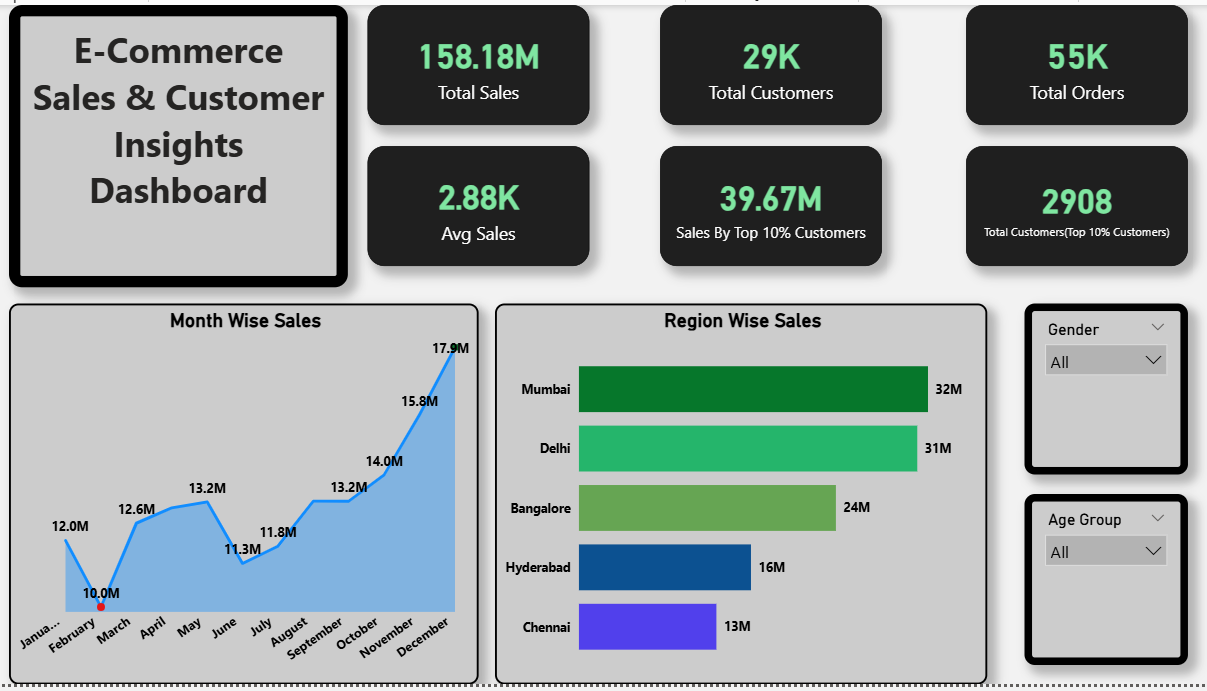

What the dashboard file says about the page in this screenshot:
{"tool":"powerbi","page":{"name":"Sales Overview","canvas":[1280,720],"ordinal":0},"visuals":[{"type":"textbox","box":[9.5,0,359.5,299],"z":0},{"type":"card","fields":{"Values":["ecommerce ecommerce_orders.Total Sales"]},"box":[389.7,0,235.4,127.2],"z":1000},{"type":"card","fields":{"Values":["ecommerce ecommerce_orders.Total Customers"]},"box":[699.9,0,235.4,127.2],"z":2000},{"type":"card","fields":{"Values":["ecommerce ecommerce_orders.Total Orders"]},"box":[1024.4,0,235.4,127.2],"z":3000},{"type":"card","fields":{"Values":["ecommerce ecommerce_orders.Sales By Top 10% Customers"]},"box":[699.9,149.5,235.4,127.2],"z":4000},{"type":"card","fields":{"Values":["ecommerce ecommerce_orders.Total Customers in Top 10% Customers"]},"box":[1024.4,149.5,235.4,127.2],"z":5000},{"type":"card","fields":{"Values":["ecommerce ecommerce_orders.Avg Sales"]},"box":[389.7,149.5,235.4,127.2],"z":6000},{"type":"lineChart","title":"Month Wise Sales","fields":{"Category":["ecommerce ecommerce_orders.Purchase Date.Variation.Date Hierarchy.Month"],"Y":["ecommerce ecommerce_orders.Total Sales"]},"box":[9.5,316.5,497.9,404],"z":7000},{"type":"clusteredBarChart","title":"Region Wise Sales","fields":{"Category":["ecommerce ecommerce_orders.Location"],"Y":["ecommerce ecommerce_orders.Total Sales"]},"box":[524.9,316.5,521.7,404],"z":8000},{"type":"slicer","fields":{"Values":["ecommerce ecommerce_orders.Gender"]},"box":[1086.4,316.5,173.4,181.3],"z":9000},{"type":"slicer","fields":{"Values":["ecommerce ecommerce_orders.Age Group"]},"box":[1086.4,518.5,173.4,181.3],"z":10000}]}

Visuals, with their boxes in screenshot pixels (x1, y1, x2, y2), scaled from the page's 1280x720 canvas onto the 1207x691 screenshot:
textbox: x1=9, y1=0, x2=348, y2=287
card - ecommerce ecommerce_orders.Total Sales: x1=367, y1=0, x2=589, y2=122
card - ecommerce ecommerce_orders.Total Customers: x1=660, y1=0, x2=882, y2=122
card - ecommerce ecommerce_orders.Total Orders: x1=966, y1=0, x2=1188, y2=122
card - ecommerce ecommerce_orders.Sales By Top 10% Customers: x1=660, y1=143, x2=882, y2=266
card - ecommerce ecommerce_orders.Total Customers in Top 10% Customers: x1=966, y1=143, x2=1188, y2=266
card - ecommerce ecommerce_orders.Avg Sales: x1=367, y1=143, x2=589, y2=266
"Month Wise Sales" lineChart: x1=9, y1=304, x2=478, y2=690
"Region Wise Sales" clusteredBarChart: x1=495, y1=304, x2=987, y2=690
slicer - ecommerce ecommerce_orders.Gender: x1=1024, y1=304, x2=1188, y2=478
slicer - ecommerce ecommerce_orders.Age Group: x1=1024, y1=498, x2=1188, y2=672
